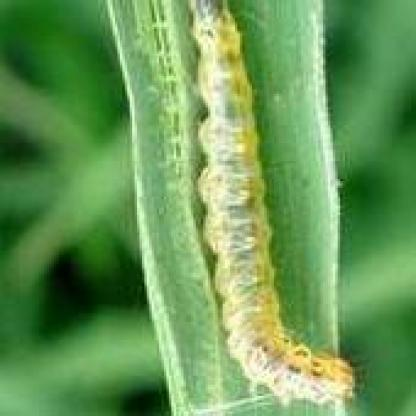leaf-folder: (170, 25, 362, 406)
